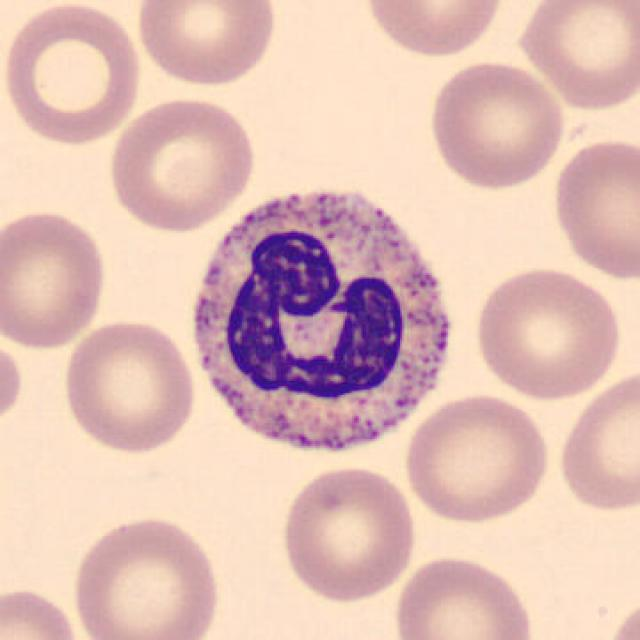Neutrophil: (176, 169, 469, 476), (178, 171, 468, 478)
RBC: (103, 93, 260, 234), (0, 0, 148, 148), (469, 263, 626, 402), (400, 390, 553, 526), (276, 462, 420, 605), (68, 511, 224, 640), (59, 316, 199, 456), (425, 56, 569, 192), (0, 205, 110, 352), (510, 0, 638, 115), (131, 0, 281, 90), (548, 134, 638, 282), (389, 552, 539, 640), (553, 365, 638, 517), (359, 0, 509, 60), (0, 583, 85, 640), (0, 330, 25, 437), (602, 590, 638, 640)
